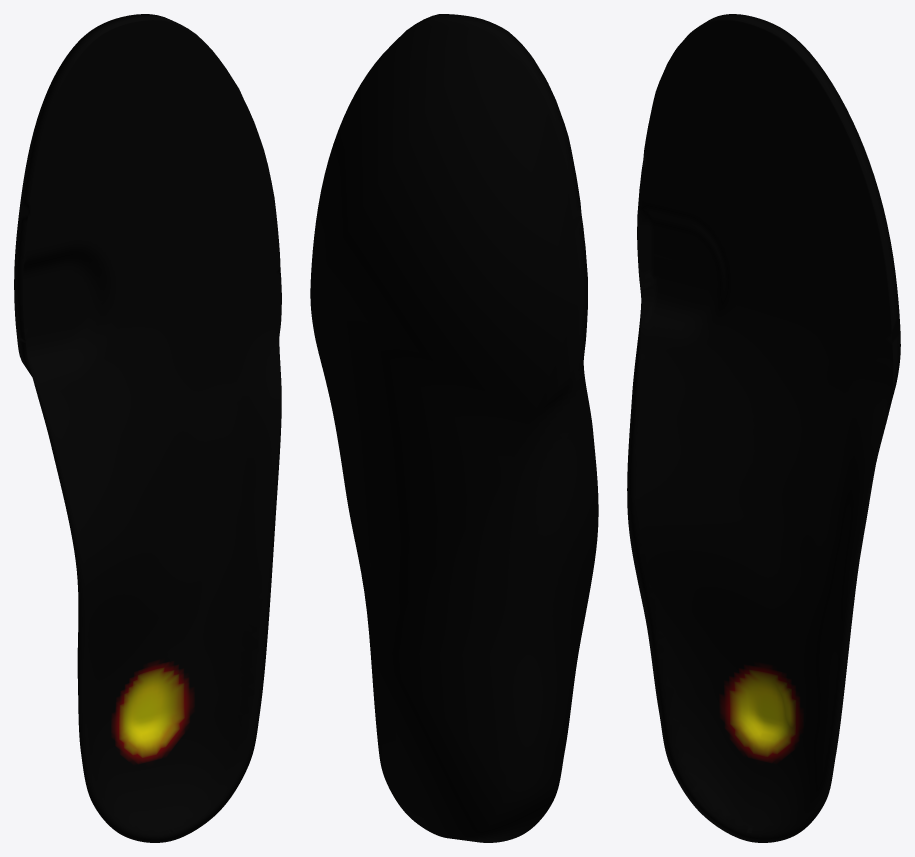
The model's file is CPO-306397_RIGHT.glb.
3 renders of one model, left to right at view 1: azimuth 30°, elevation 25°; view 2: azimuth 150°, elevation 25°; view 3: azimuth 330°, elevation 25°, orthographic. The views are drawn at different scales.
Visible parts, largest first — view 1: geometry_0; view 2: geometry_0; view 3: geometry_0.
Boxes of the visible parts, x1,y1,x2,y2 form: geometry_0: (14, 14, 281, 842); geometry_0: (310, 14, 598, 842); geometry_0: (627, 14, 900, 842).
Bounding box in the file's own units: 82.03 × 245 × 22.08.
